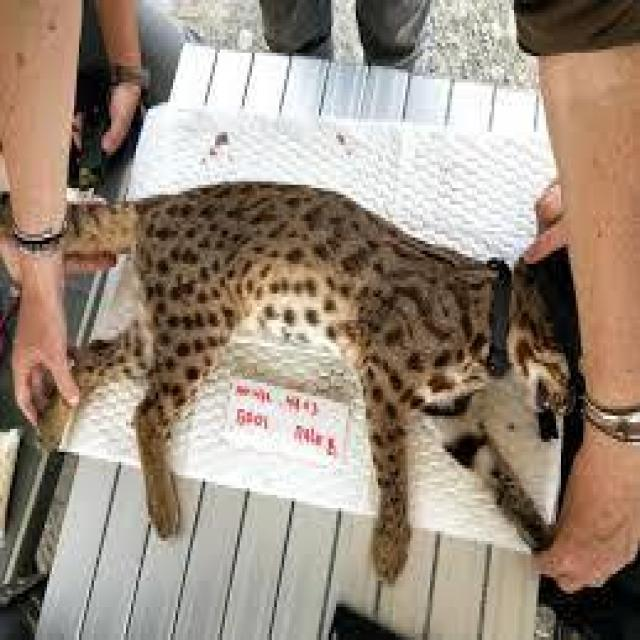leopard: (96, 175, 570, 540)
